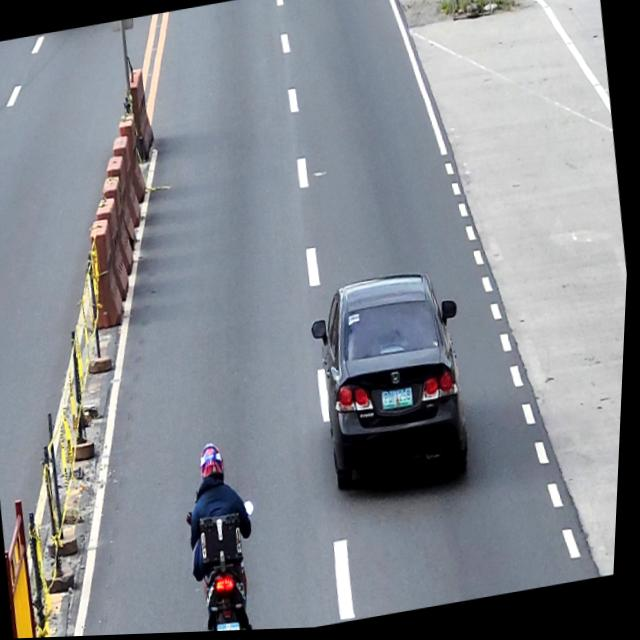Car: (303, 266, 484, 500)
License-Plate: (383, 387, 419, 415), (222, 622, 249, 633)
Motorcycle: (186, 499, 276, 634)
